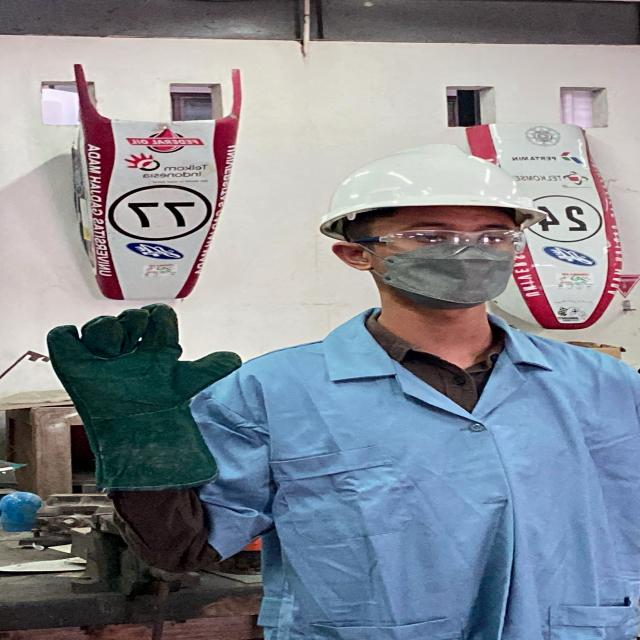face_mask: (364, 221, 542, 314)
glasses: (347, 225, 538, 256)
hand_glove: (44, 295, 255, 433)
head_helmet: (320, 144, 538, 225)
person: (46, 142, 637, 640)
